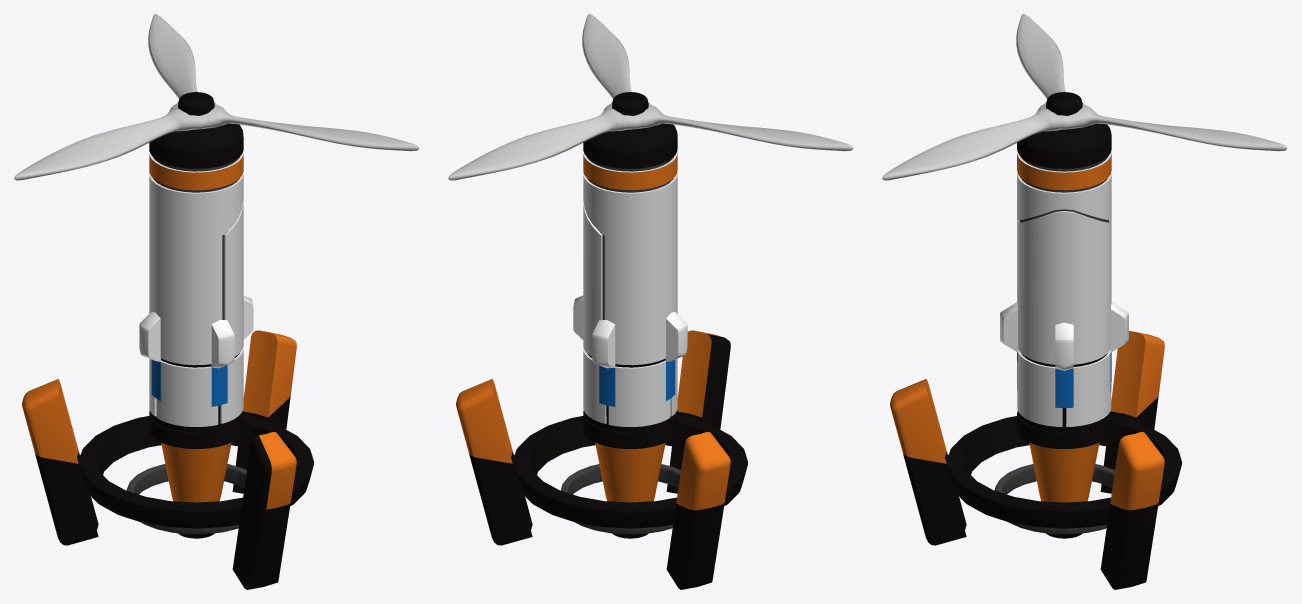
File: drone.obj
3 renders of one model, left to right at view 1: azimuth 30°, elevation 25°; view 2: azimuth 150°, elevation 25°; view 3: azimuth 270°, elevation 25°, orthographic.
Visible parts, largest first — view 1: Cylinder_Main_Body_(white)_0, Circle.002_Black_0, Cylinder.004_Propeller_0, Circle_Black_0, Circle.002_Yellow_0, Cylinder_Black_0, Cylinder_Yellow_0, Cylinder.003_Grey_0, Cylinder.001__0, Cylinder.002__0, Cylinder_Blue_0, Cylinder_Grey_0; view 2: Cylinder_Main_Body_(white)_0, Circle.002_Black_0, Cylinder.004_Propeller_0, Circle_Black_0, Circle.002_Yellow_0, Cylinder_Black_0, Cylinder_Yellow_0, Cylinder.003_Grey_0, Cylinder.001__0, Cylinder.002__0, Cylinder_Blue_0, Cylinder_Grey_0; view 3: Cylinder_Main_Body_(white)_0, Circle.002_Yellow_0, Cylinder.004_Propeller_0, Circle_Black_0, Circle.002_Black_0, Cylinder_Black_0, Cylinder_Yellow_0, Cylinder.003_Grey_0, Cylinder.002__0, Cylinder.001__0, Cylinder_Blue_0, Cylinder_Grey_0.
Boxes of the visible parts, x1,y1,x2,y2 form: Cylinder_Main_Body_(white)_0: (149, 151, 243, 426); Circle.002_Black_0: (35, 396, 290, 589); Cylinder.004_Propeller_0: (14, 14, 419, 180); Circle_Black_0: (77, 414, 313, 528); Circle.002_Yellow_0: (22, 330, 296, 509); Cylinder_Black_0: (149, 92, 243, 538); Cylinder_Yellow_0: (149, 154, 243, 502); Cylinder.003_Grey_0: (126, 464, 246, 534); Cylinder.001__0: (139, 295, 253, 361); Cylinder.002__0: (211, 320, 234, 368); Cylinder_Blue_0: (151, 359, 227, 406); Cylinder_Grey_0: (152, 156, 239, 319); Cylinder_Main_Body_(white)_0: (583, 151, 677, 426); Circle.002_Black_0: (469, 334, 730, 589); Cylinder.004_Propeller_0: (448, 14, 853, 180); Circle_Black_0: (511, 414, 747, 528); Circle.002_Yellow_0: (456, 330, 730, 510); Cylinder_Black_0: (583, 92, 677, 538); Cylinder_Yellow_0: (583, 153, 677, 502); Cylinder.003_Grey_0: (561, 464, 680, 534); Cylinder.001__0: (573, 295, 687, 361); Cylinder.002__0: (592, 320, 615, 368); Cylinder_Blue_0: (599, 359, 675, 406); Cylinder_Grey_0: (586, 156, 673, 319); Cylinder_Main_Body_(white)_0: (1017, 151, 1111, 426); Circle.002_Yellow_0: (890, 331, 1164, 510); Cylinder.004_Propeller_0: (882, 14, 1287, 180); Circle_Black_0: (945, 414, 1181, 528); Circle.002_Black_0: (896, 379, 1158, 589); Cylinder_Black_0: (1017, 92, 1111, 538); Cylinder_Yellow_0: (1017, 153, 1111, 502); Cylinder.003_Grey_0: (994, 464, 1114, 534); Cylinder.002__0: (1000, 302, 1128, 352); Cylinder.001__0: (1055, 322, 1073, 370); Cylinder_Blue_0: (1017, 352, 1111, 407); Cylinder_Grey_0: (1019, 156, 1108, 222).
Bounding box in the file's own units: 2.62 × 3.25 × 2.72.
